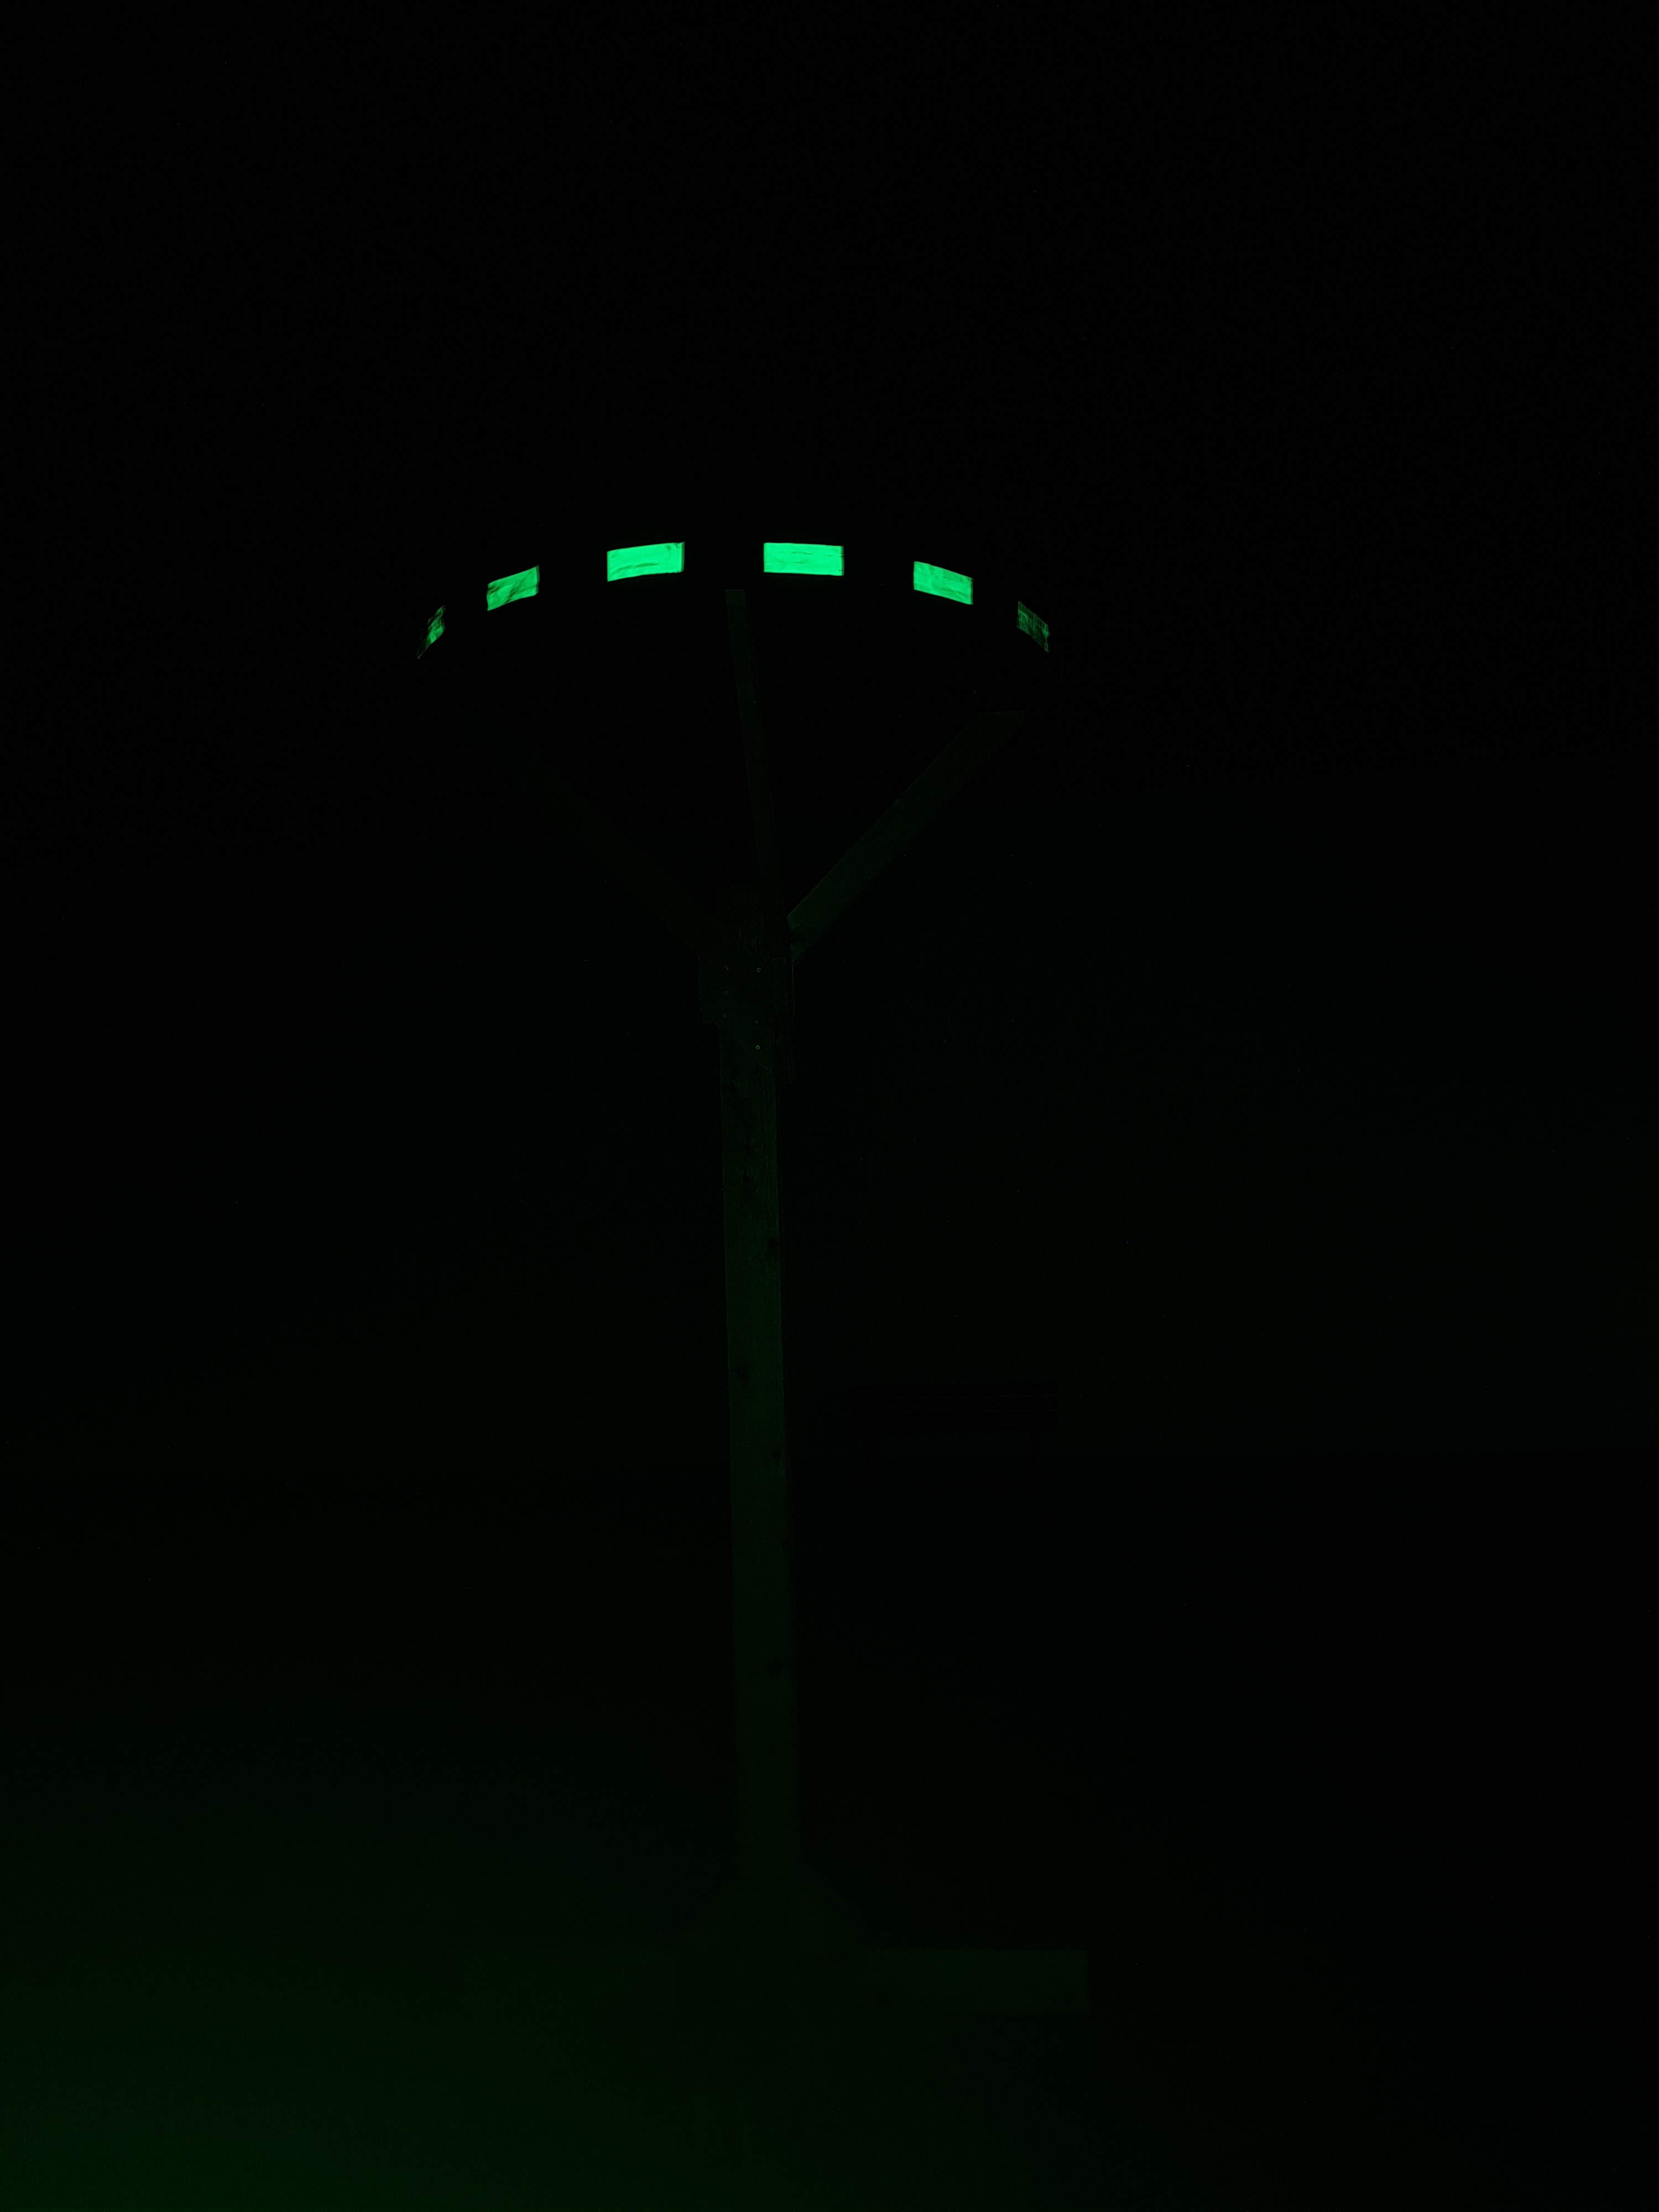hoop: (422, 531, 1054, 658)
